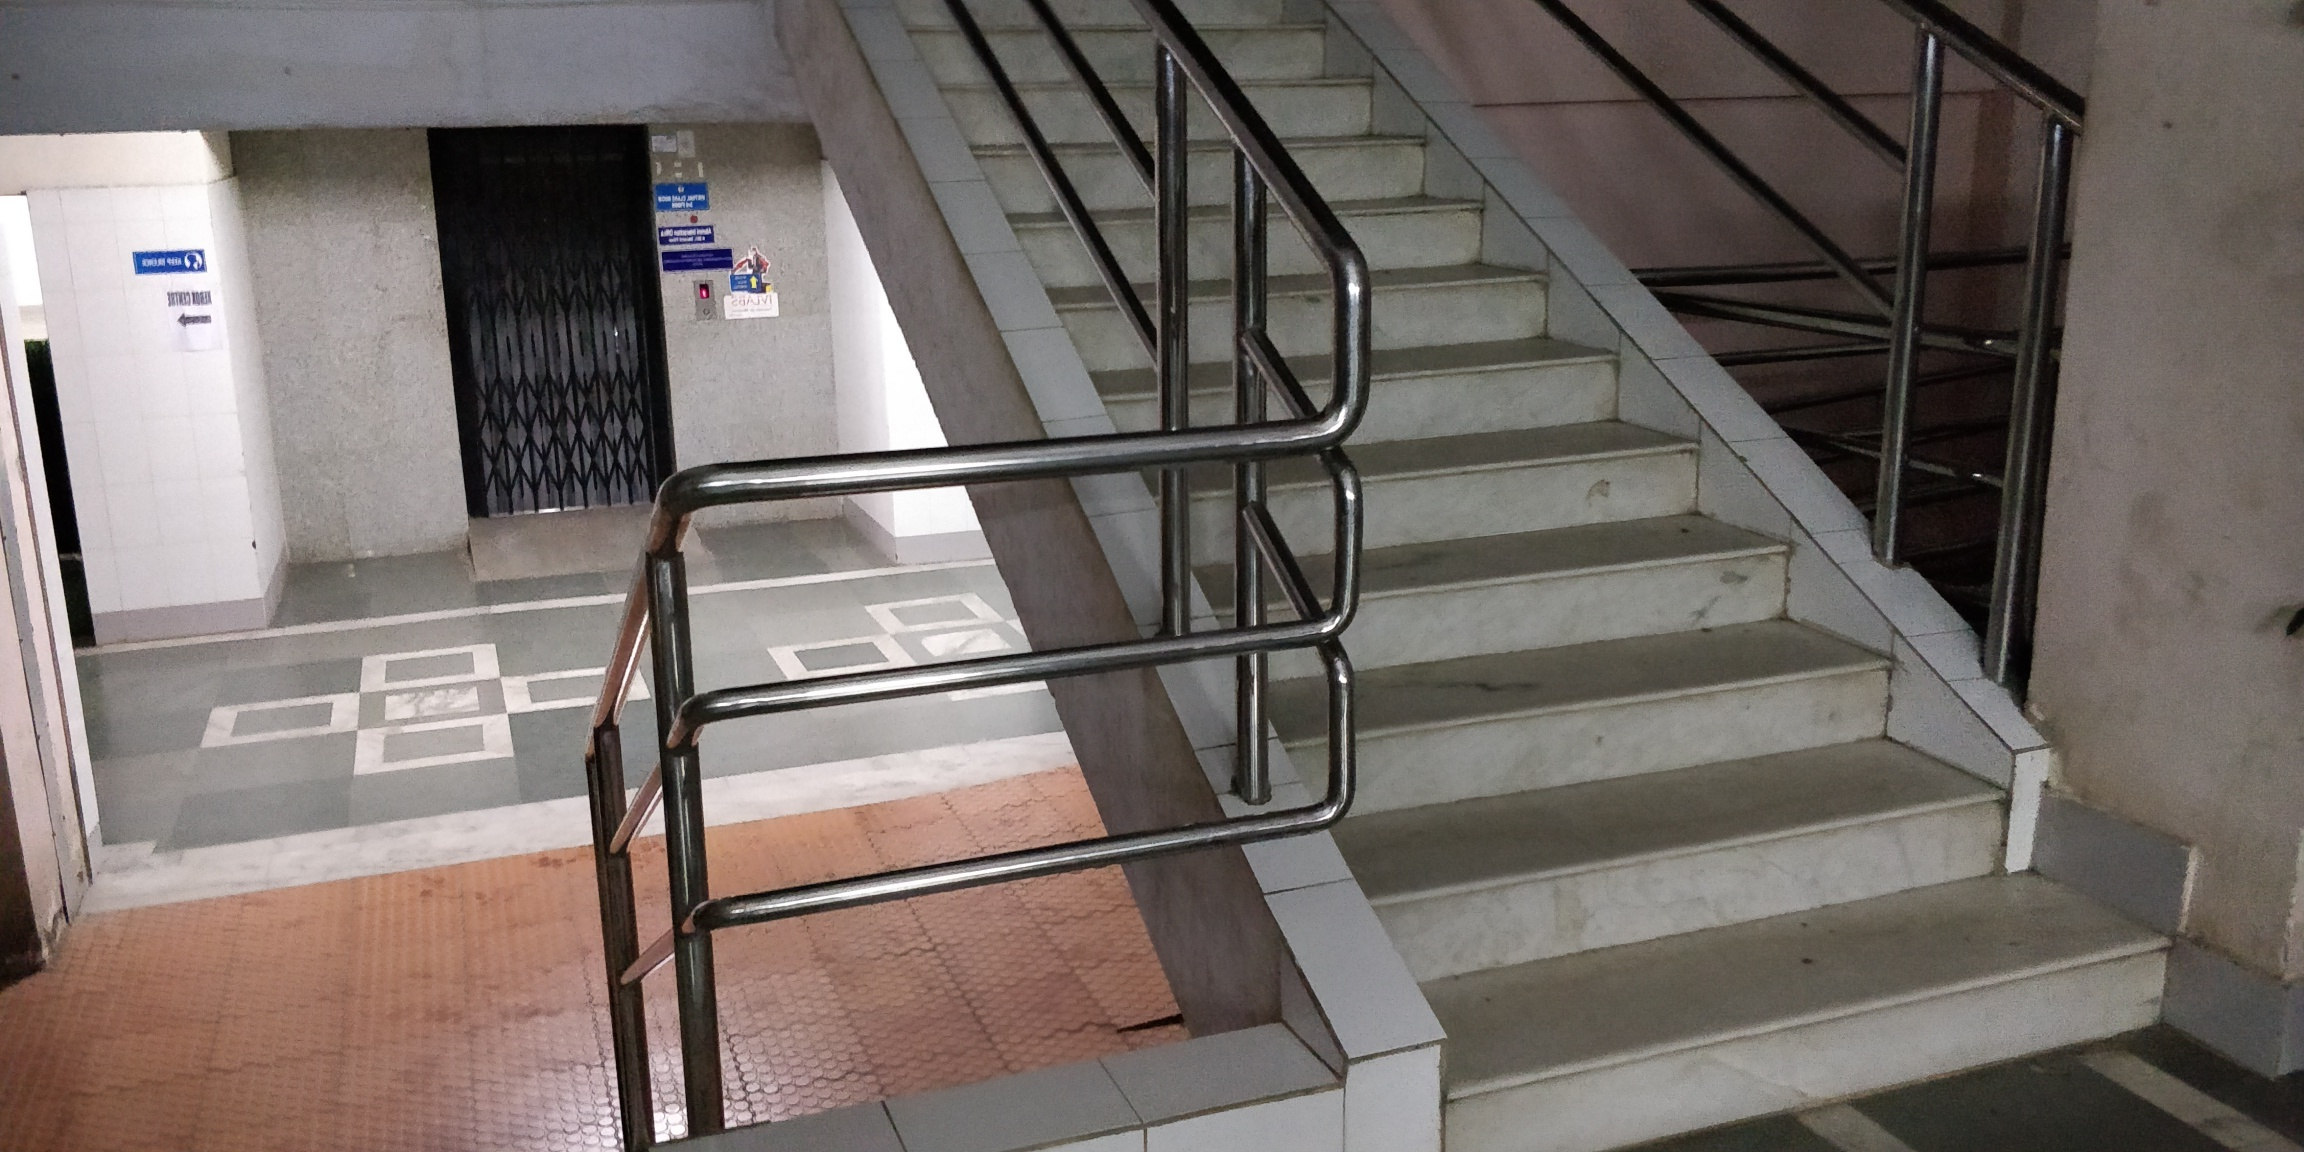stairs_up: (1029, 54, 2181, 1127)
